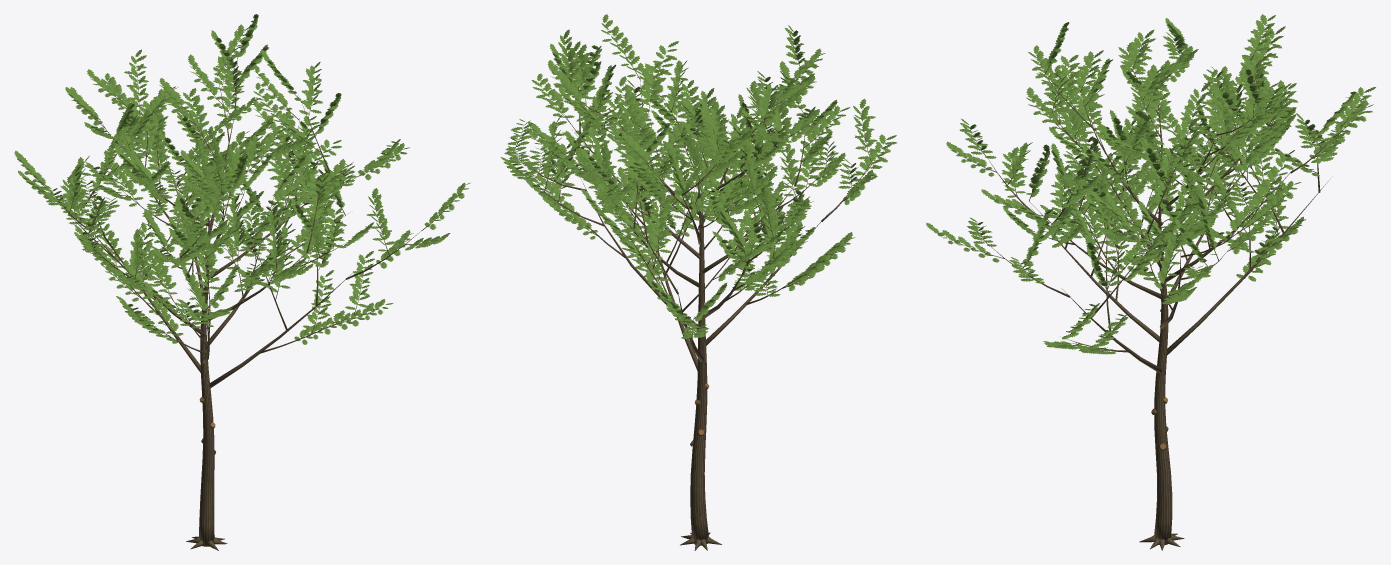
File: Sessile_Oak_Mature_02_MediumPruned_Recent_LOD0.fbx
3 views of the same model, side by side, from view 1: azimuth 30°, elevation 25°; view 2: azimuth 150°, elevation 25°; view 3: azimuth 270°, elevation 25° (orthographic). The views are drawn at different scales.
Parts seen in each view (by area): view 1: Sessile_Oak_Mature_02_MediumPruned_Recent_LOD0; view 2: Sessile_Oak_Mature_02_MediumPruned_Recent_LOD0; view 3: Sessile_Oak_Mature_02_MediumPruned_Recent_LOD0.
Part boxes in pixels (x1,y1,x2,y2): Sessile_Oak_Mature_02_MediumPruned_Recent_LOD0: (14,14,469,550); Sessile_Oak_Mature_02_MediumPruned_Recent_LOD0: (500,14,896,550); Sessile_Oak_Mature_02_MediumPruned_Recent_LOD0: (926,14,1375,550).
Bounding box in the file's own units: 1545 × 2201 × 1710.
Materials: 3 (2 with a texture image).
